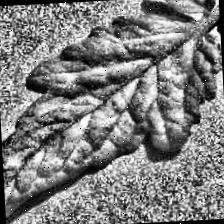leaf mold: (0, 12, 224, 224)
